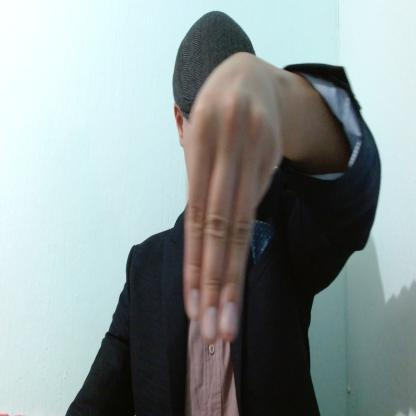M: (187, 54, 285, 344)
